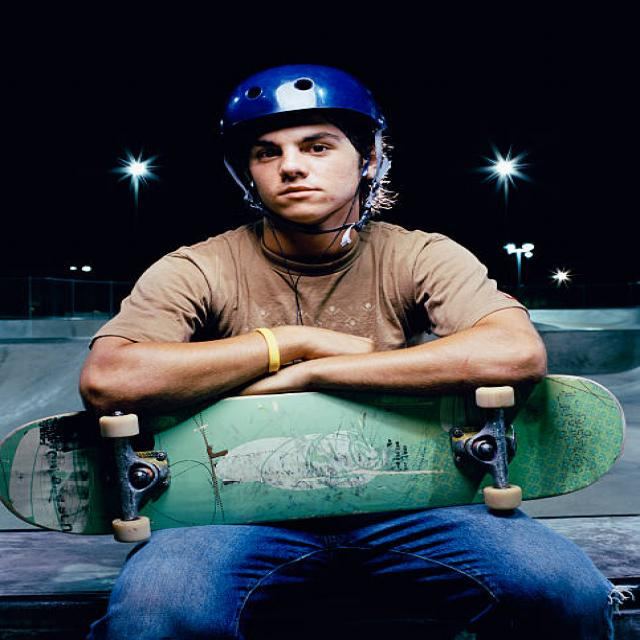with-helmet: (208, 61, 390, 226)
